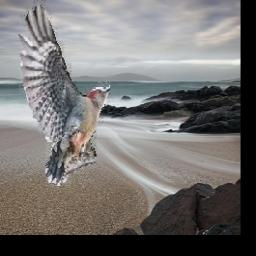Woodpecker: (17, 0, 110, 186)
